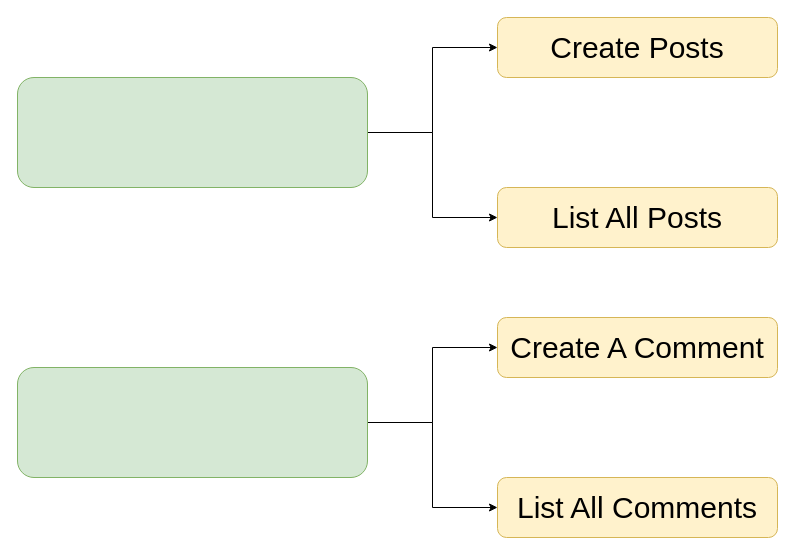
The diagram is 795 pixels wide and 555 high, and some of its shapes have lost their labels. Each missing label, with the centre of its shape:
"Comments Service" goes at [192,422].
"Posts Service" goes at [192,132].
